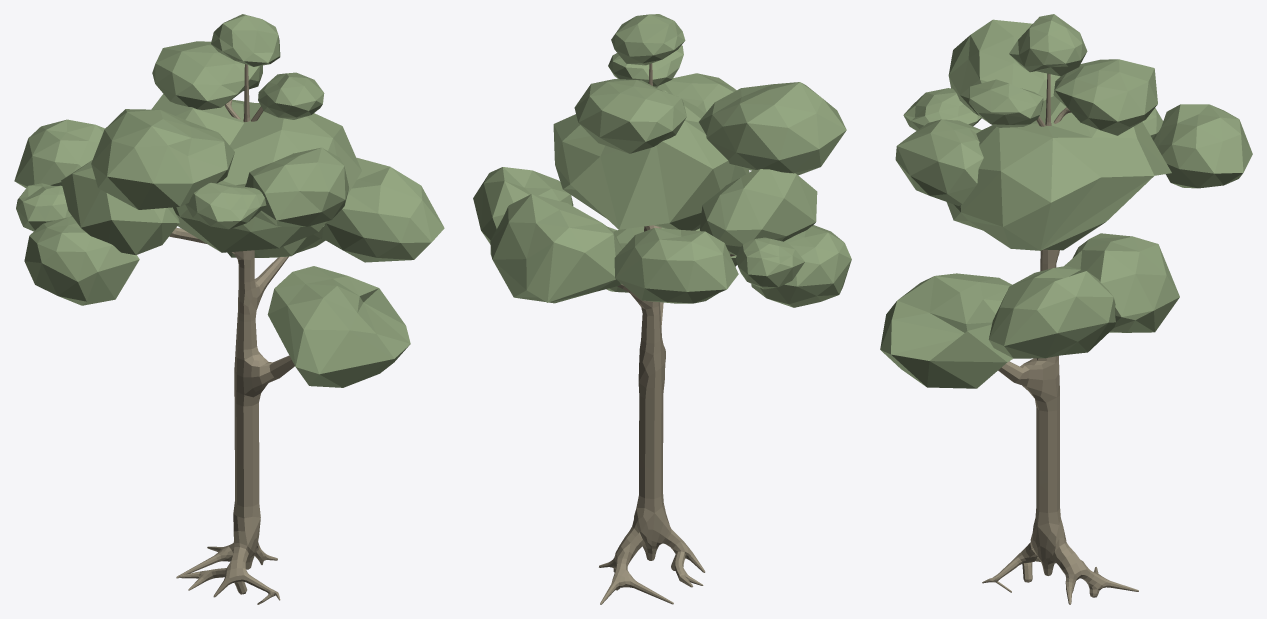
The model's file is Beech2.fbx.
3 renders of one model, left to right at view 1: azimuth 30°, elevation 25°; view 2: azimuth 150°, elevation 25°; view 3: azimuth 270°, elevation 25°, orthographic.
Visible parts, largest first — view 1: Icosphere.010, Cube.001, Icosphere.017, Icosphere.023, Icosphere.011, Icosphere.014, Icosphere.019, Icosphere.016, Icosphere.021, Icosphere.013, Icosphere.018, Icosphere.022 (+3 smaller); view 2: Icosphere.023, Icosphere.012, Icosphere.017, Cube.001, Icosphere.013, Icosphere.016, Icosphere.021, Icosphere.014, Icosphere.011, Icosphere.022, Icosphere.015, Icosphere.019 (+2 smaller); view 3: Icosphere.023, Icosphere.010, Cube.001, Icosphere.011, Icosphere.012, Icosphere.013, Icosphere.021, Icosphere.019, Icosphere.017, Icosphere.022, Icosphere.020, Icosphere.018.
Part boxes in pixels (left/top/right/bottom): Icosphere.010: left=267, top=266, right=410, bottom=387; Cube.001: left=169, top=64, right=294, bottom=604; Icosphere.017: left=91, top=109, right=234, bottom=209; Icosphere.023: left=151, top=94, right=361, bottom=252; Icosphere.011: left=322, top=158, right=444, bottom=262; Icosphere.014: left=24, top=216, right=139, bottom=305; Icosphere.019: left=245, top=147, right=348, bottom=226; Icosphere.016: left=61, top=160, right=179, bottom=254; Icosphere.021: left=152, top=41, right=262, bottom=109; Icosphere.013: left=14, top=119, right=104, bottom=188; Icosphere.018: left=185, top=180, right=266, bottom=229; Icosphere.022: left=211, top=14, right=280, bottom=66; Icosphere.023: left=553, top=90, right=749, bottom=230; Icosphere.012: left=490, top=194, right=621, bottom=303; Icosphere.017: left=699, top=82, right=846, bottom=175; Cube.001: left=599, top=63, right=735, bottom=604; Icosphere.013: left=614, top=228, right=738, bottom=303; Icosphere.016: left=700, top=169, right=817, bottom=255; Icosphere.021: left=574, top=79, right=686, bottom=153; Icosphere.014: left=751, top=225, right=851, bottom=307; Icosphere.011: left=473, top=167, right=573, bottom=243; Icosphere.022: left=611, top=14, right=685, bottom=65; Icosphere.015: left=735, top=237, right=804, bottom=289; Icosphere.019: left=654, top=73, right=736, bottom=113; Icosphere.023: left=946, top=96, right=1171, bottom=250; Icosphere.010: left=880, top=273, right=1013, bottom=388; Cube.001: left=982, top=73, right=1138, bottom=604; Icosphere.011: left=988, top=266, right=1115, bottom=358; Icosphere.012: left=1064, top=233, right=1179, bottom=332; Icosphere.013: left=1153, top=104, right=1252, bottom=188; Icosphere.021: left=1053, top=59, right=1157, bottom=135; Icosphere.019: left=895, top=119, right=983, bottom=205; Icosphere.017: left=948, top=19, right=1060, bottom=115; Icosphere.022: left=1009, top=14, right=1087, bottom=76; Icosphere.020: left=969, top=79, right=1043, bottom=127; Icosphere.018: left=903, top=88, right=981, bottom=130.
Bounding box in the file's own units: 2413 × 3480 × 2042.
